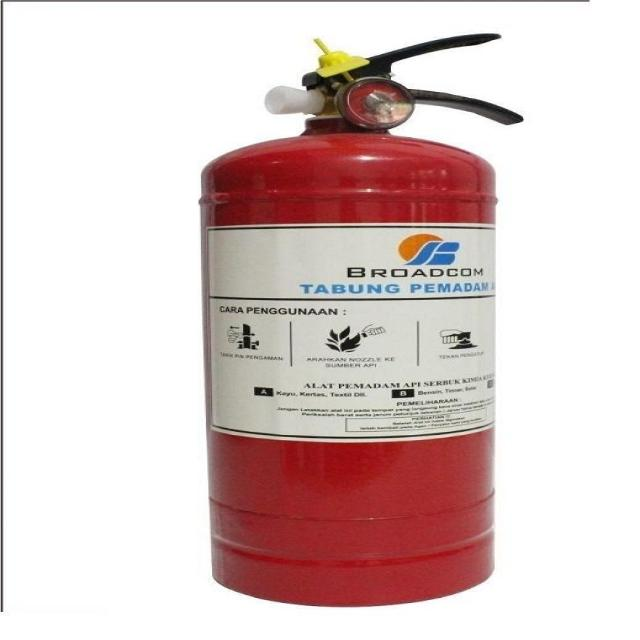fire_extinguisher: (191, 28, 528, 610)
